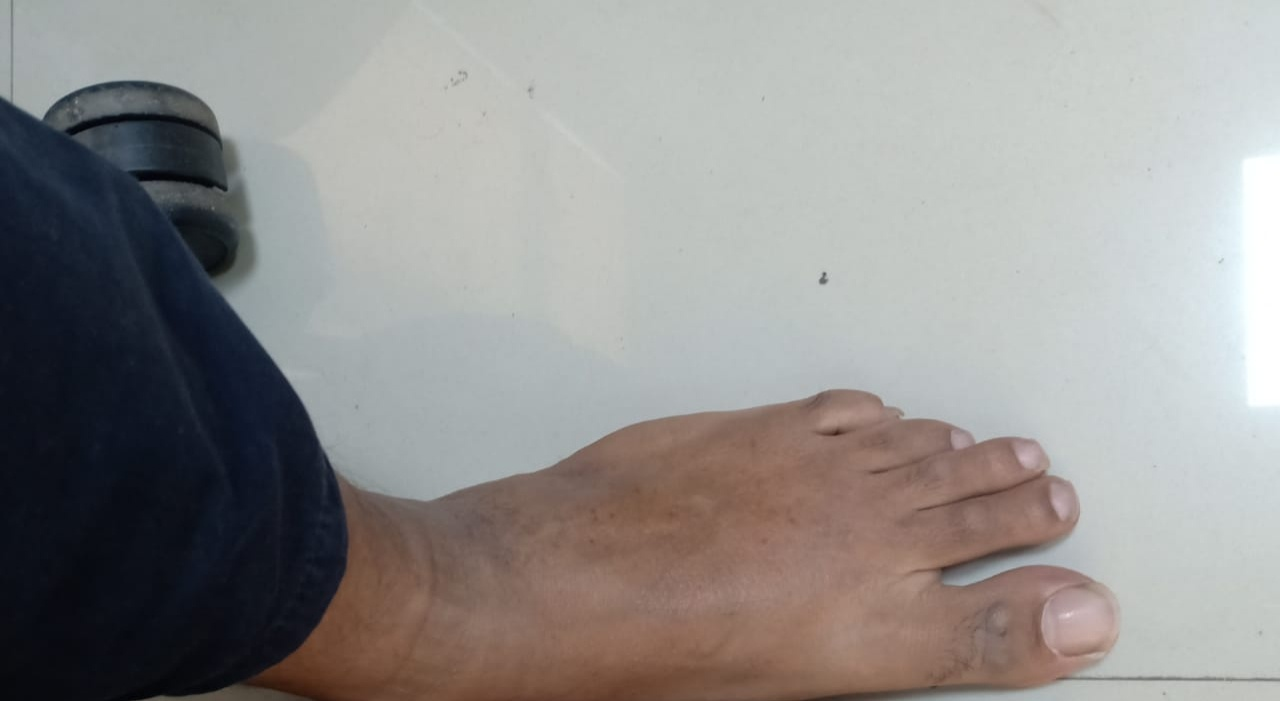feet: (185, 333, 1129, 697)
